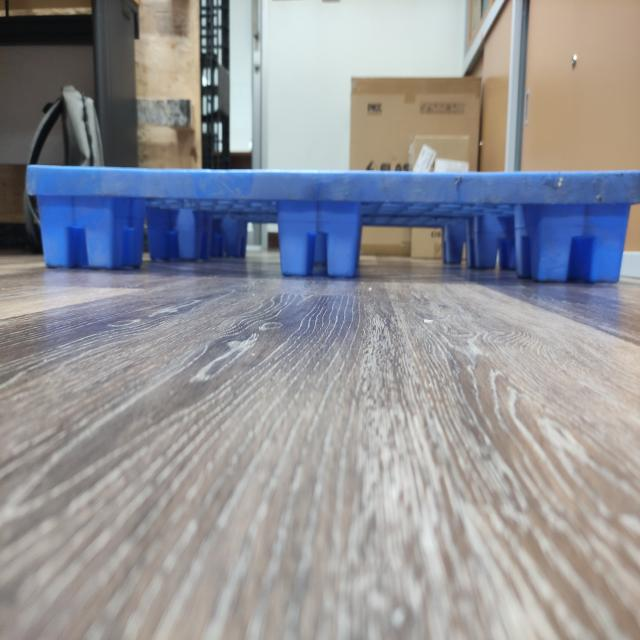block: (535, 208, 629, 282), (280, 201, 362, 278), (38, 195, 116, 270)
front: (24, 163, 640, 282)
